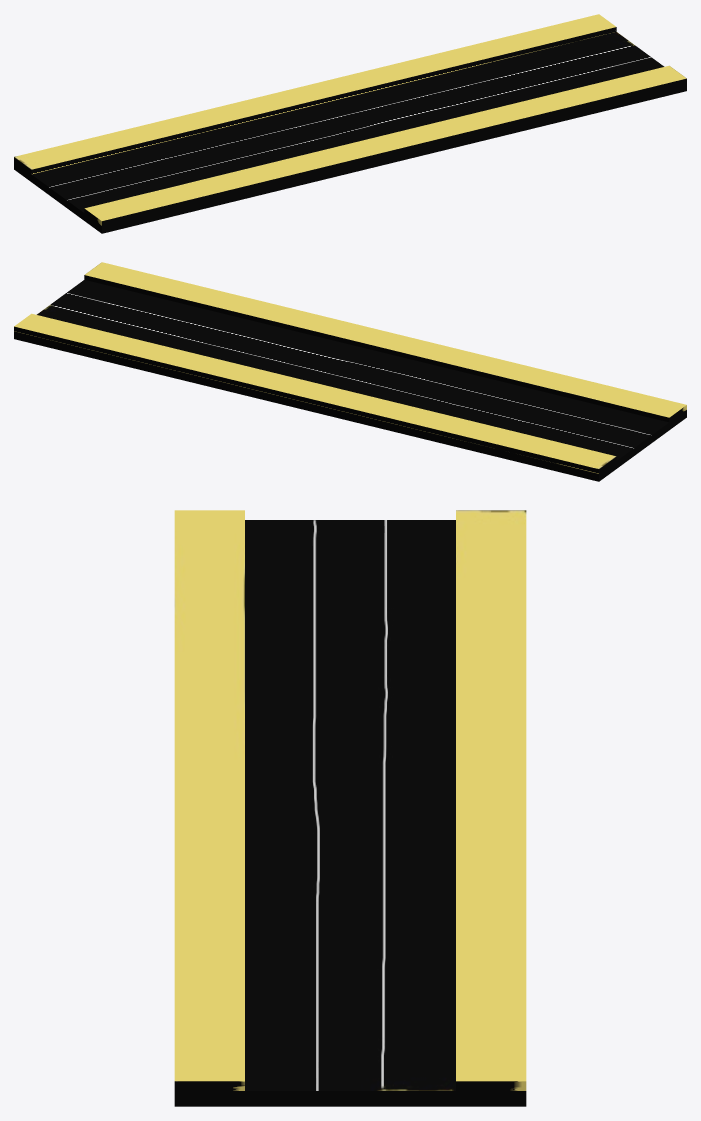
Rendered from Carretera.obj.
The picture shows the model from 3 angles, top to bottom: view 1: azimuth 30°, elevation 25°; view 2: azimuth 150°, elevation 25°; view 3: azimuth 270°, elevation 25°; orthographic projection. The views are drawn at different scales.
Parts seen in each view (by area): view 1: Cube; view 2: Cube; view 3: Cube.
Boxes of the visible parts, box(x1,y1,x2,y2) form: Cube: box(14, 14, 686, 233); Cube: box(14, 262, 686, 481); Cube: box(174, 510, 526, 1106).
Size of the model in its own units: 88.63 by 1.82 by 23.08.
